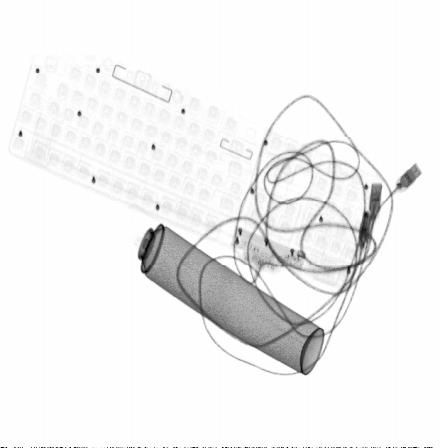Sprayer: (113, 202, 326, 378)
